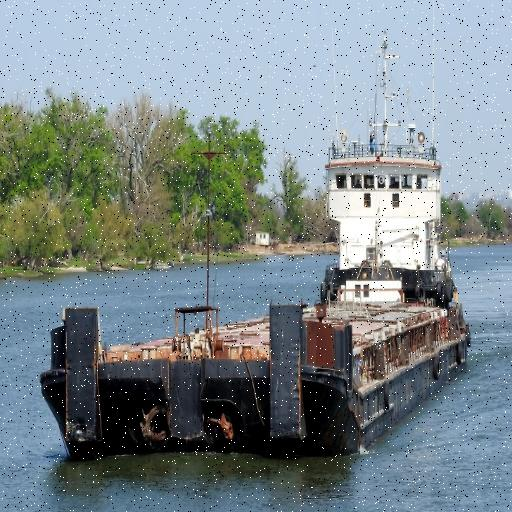tugboat: (39, 123, 475, 466)
